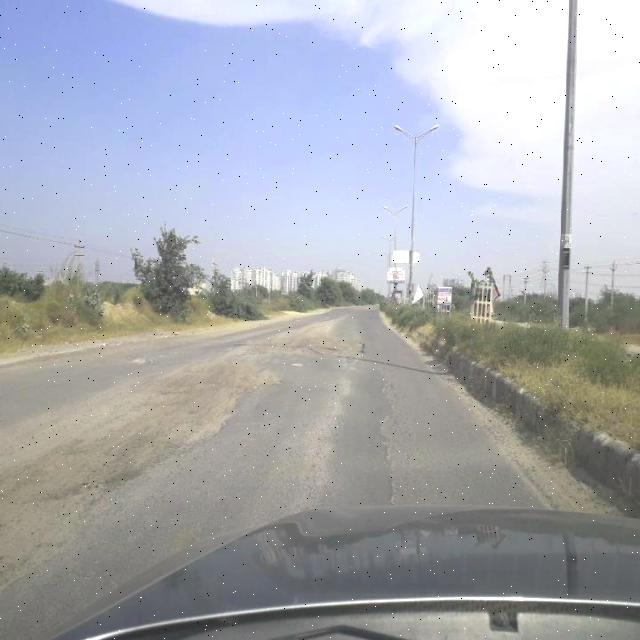D00: (366, 364, 410, 510)
D40: (6, 364, 294, 590), (231, 318, 364, 371)
